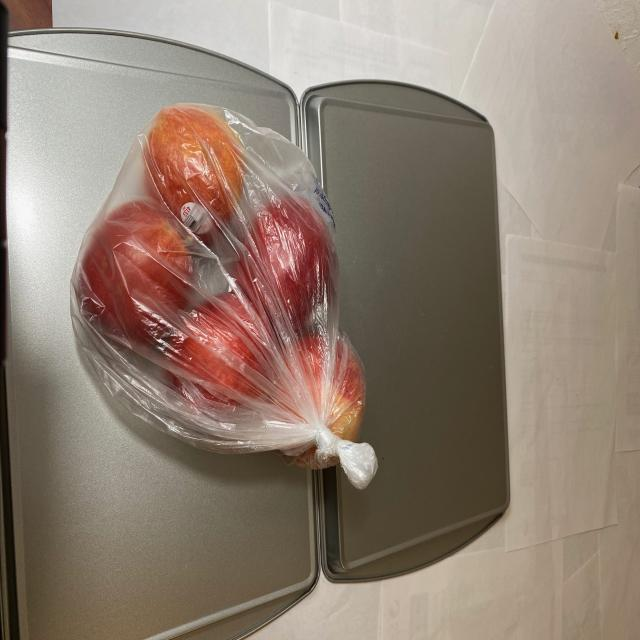apple: (79, 93, 366, 470)
